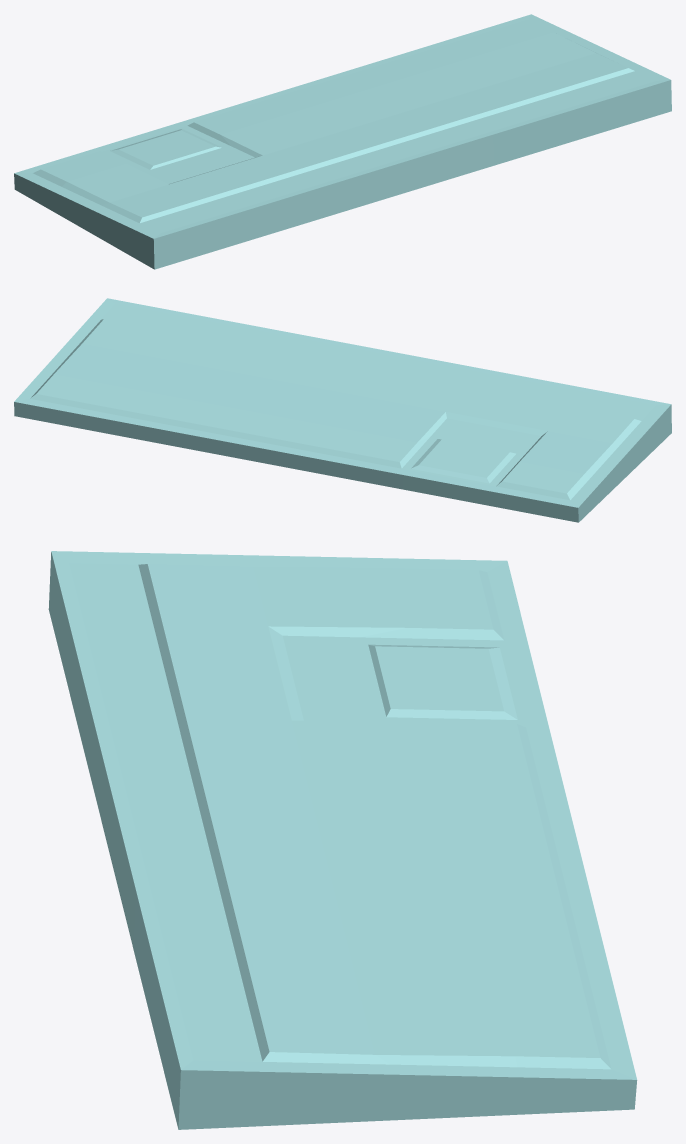
File: Teclado.fbx
3 renders of one model, top to bottom at view 1: azimuth 30°, elevation 25°; view 2: azimuth 150°, elevation 25°; view 3: azimuth 270°, elevation 25°, orthographic. The views are drawn at different scales.
Visible parts, largest first — view 1: Teclado; view 2: Teclado; view 3: Teclado.
Part boxes in pixels (x1,y1,x2,y2): Teclado: (14,14,671,269); Teclado: (14,298,671,522); Teclado: (48,551,637,1129).
Bounding box in the file's own units: 60.39 × 3.18 × 27.84.
